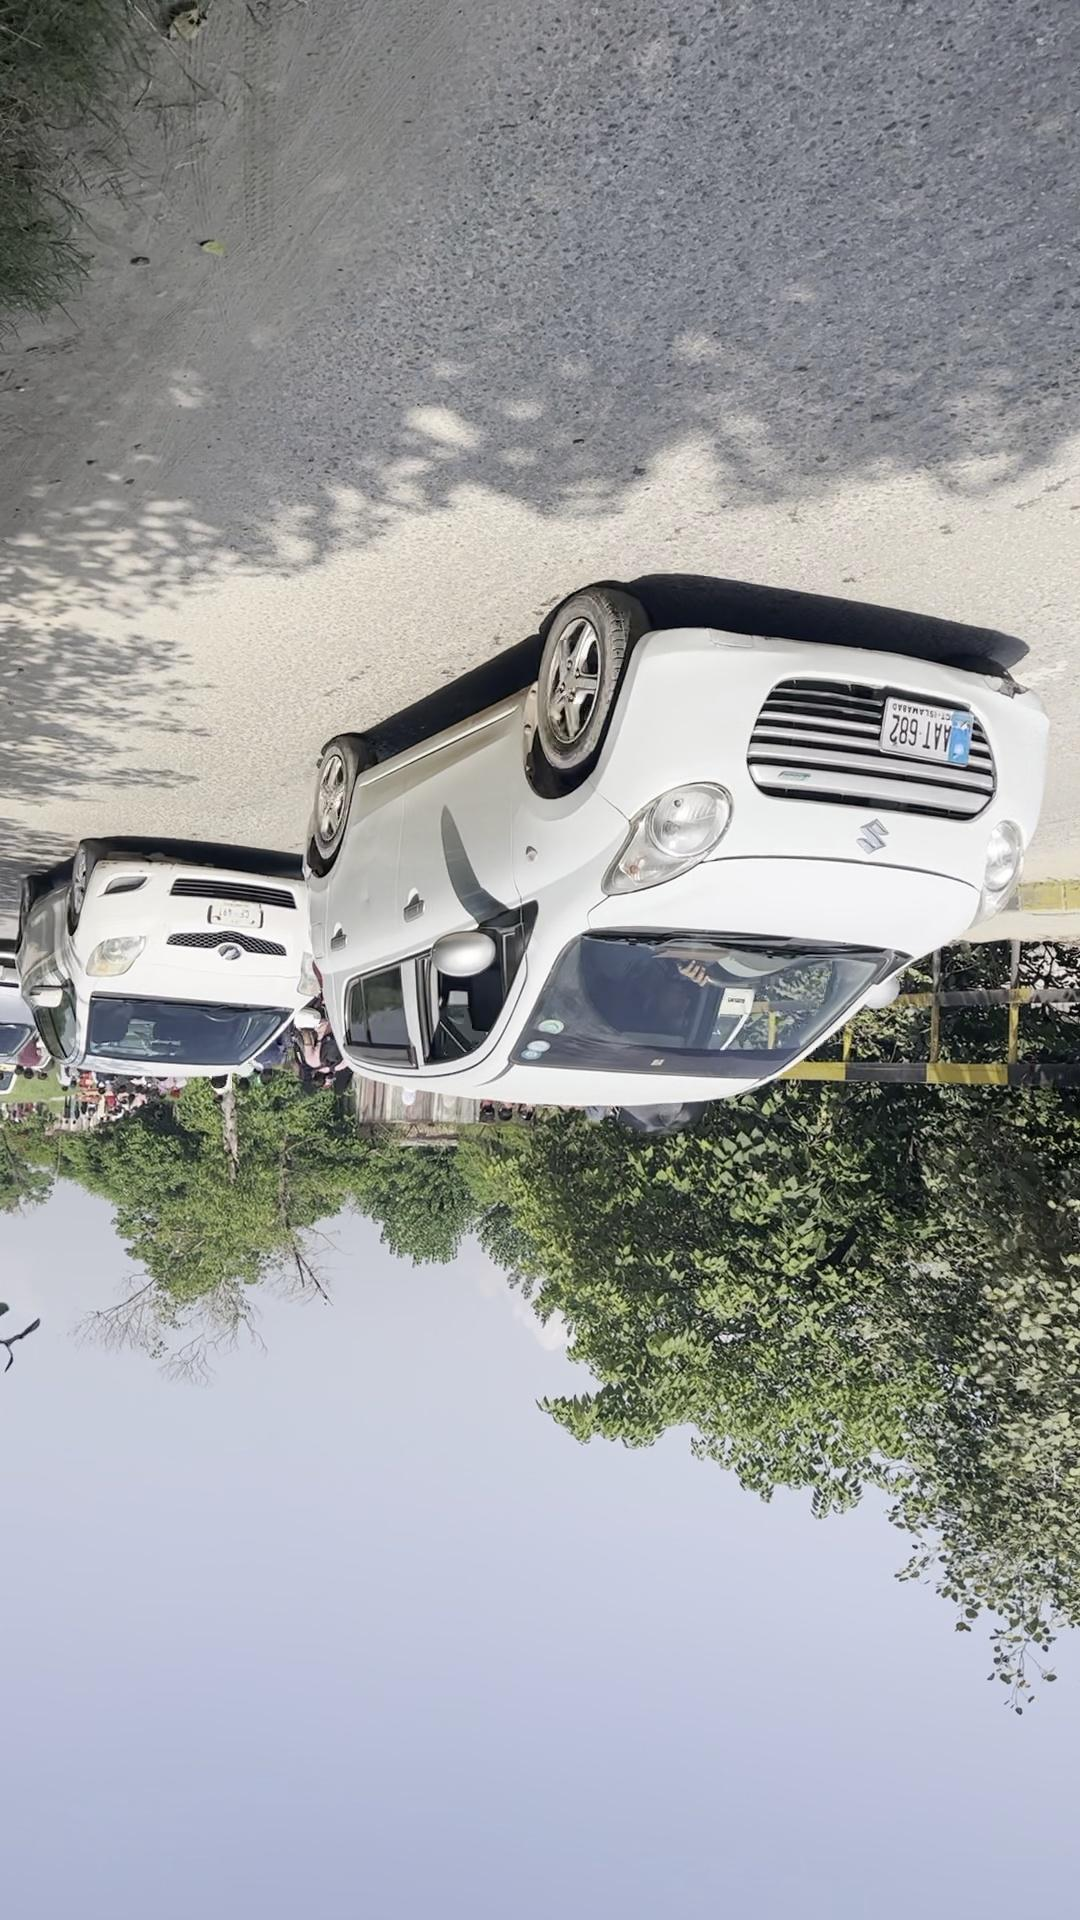windshield: (141, 825, 576, 1015)
